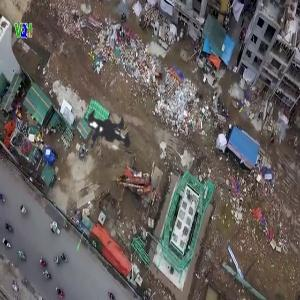drone: (18, 44, 190, 216)
